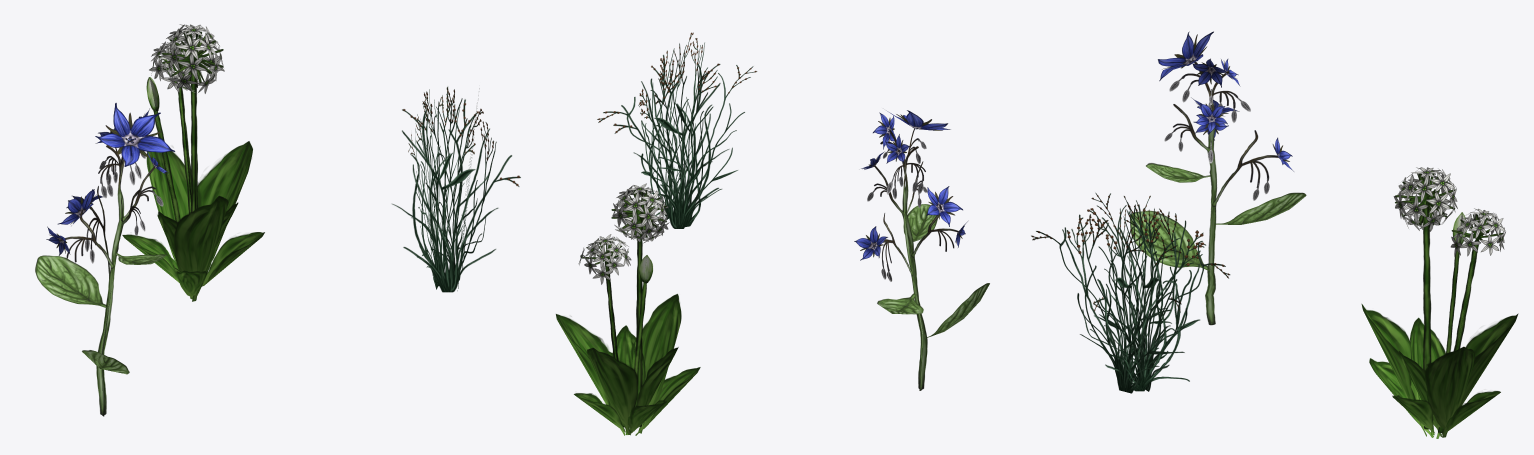
File: wild_garlic_bulrush_borage_-_medicinal_plants.glb
The picture shows the model from 3 angles, left to right: view 1: azimuth 30°, elevation 25°; view 2: azimuth 150°, elevation 25°; view 3: azimuth 270°, elevation 25°; orthographic projection. The views are drawn at different scales.
Parts seen in each view (by area): view 1: Object_2, Object_4, Object_3; view 2: Object_2, Object_3, Object_4; view 3: Object_2, Object_3, Object_4.
Boxes of the visible parts, bbox=[...] form: Object_2: bbox=[122, 24, 264, 301]; Object_4: bbox=[35, 103, 175, 416]; Object_3: bbox=[392, 86, 520, 292]; Object_2: bbox=[556, 183, 700, 435]; Object_3: bbox=[597, 32, 757, 228]; Object_4: bbox=[854, 110, 989, 390]; Object_2: bbox=[1361, 167, 1518, 438]; Object_3: bbox=[1031, 192, 1230, 393]; Object_4: bbox=[1130, 31, 1306, 325].
Bounding box in the file's own units: 16.5 × 12.26 × 17.45.
Materials: 3 (3 with a texture image).
